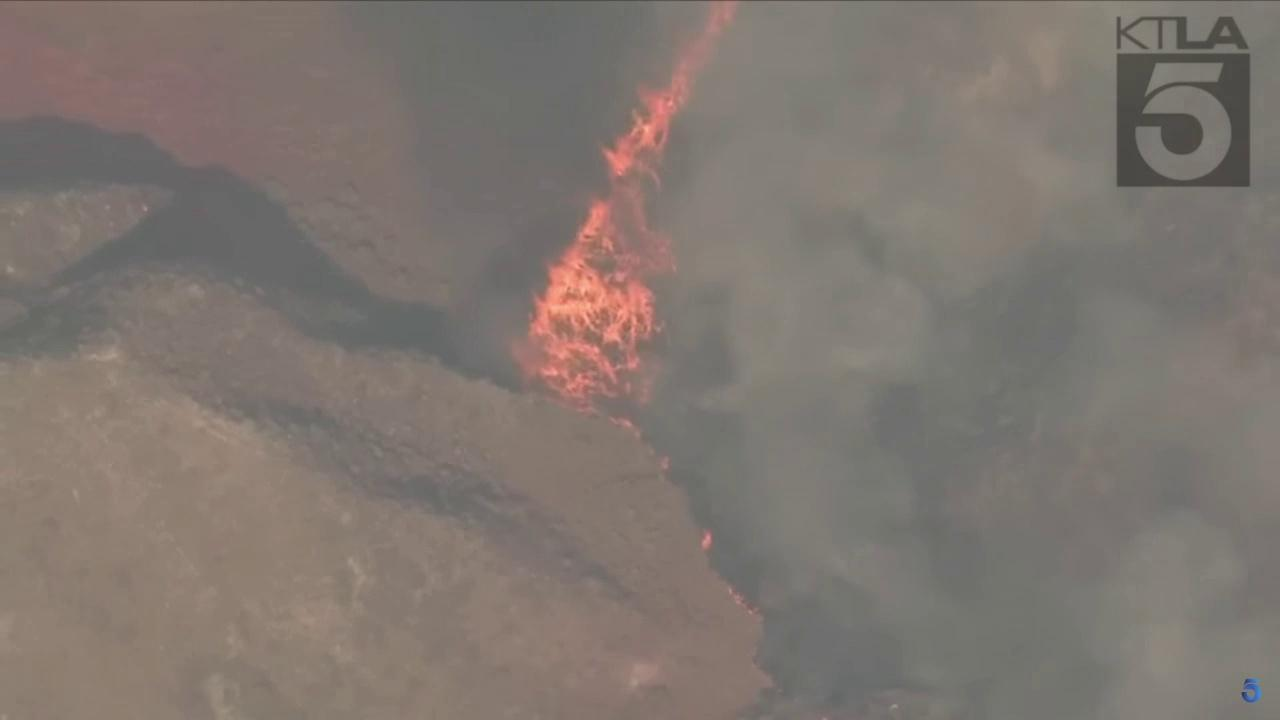fire: (503, 0, 742, 435), (725, 586, 760, 616), (700, 529, 712, 552), (658, 455, 671, 470)
smoke: (359, 0, 1280, 720)
